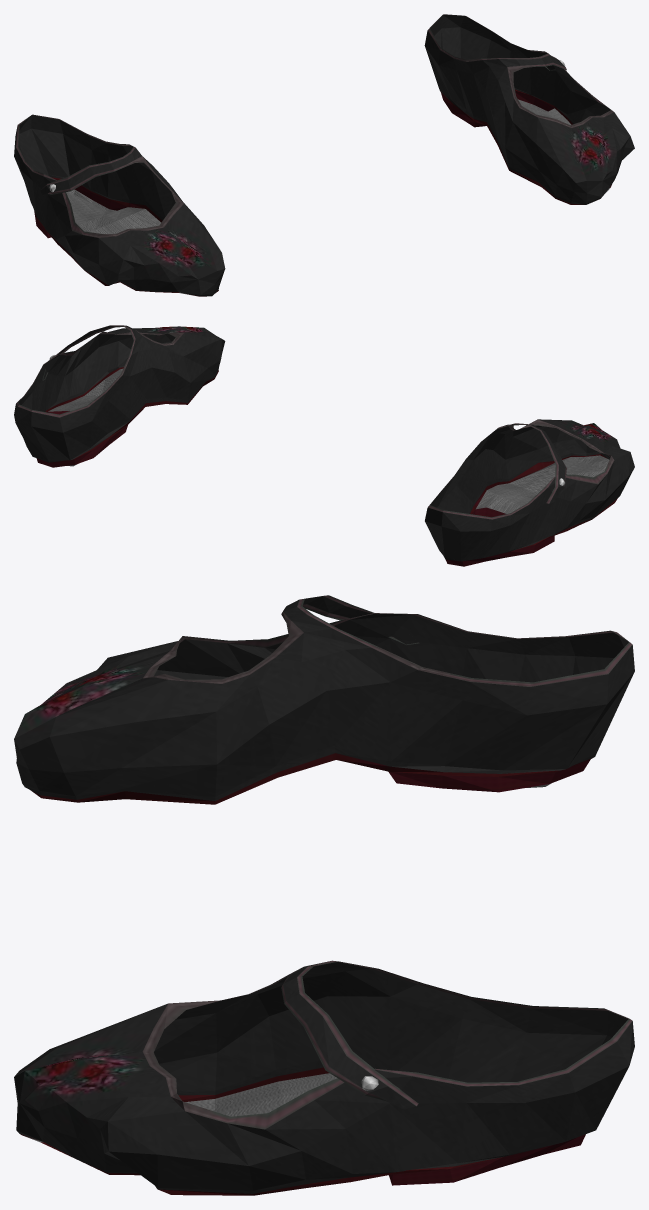
Rendered from mhw_toigo_mj_cloth_shoes.glb.
The picture shows the model from 3 angles, top to bottom: view 1: azimuth 30°, elevation 25°; view 2: azimuth 150°, elevation 25°; view 3: azimuth 270°, elevation 25°; orthographic projection. The views are drawn at different scales.
Visible parts, largest first — view 1: mhw_toigo_mj_cloth_shoes; view 2: mhw_toigo_mj_cloth_shoes; view 3: mhw_toigo_mj_cloth_shoes.
Boxes of the visible parts, <box> form: mhw_toigo_mj_cloth_shoes: <box>14,14,634,296</box>; mhw_toigo_mj_cloth_shoes: <box>14,325,634,566</box>; mhw_toigo_mj_cloth_shoes: <box>14,595,634,1195</box>.
Bounding box in the file's own units: 0.5425 × 0.0898 × 0.2925.
Materials: 1 (1 with a texture image).
